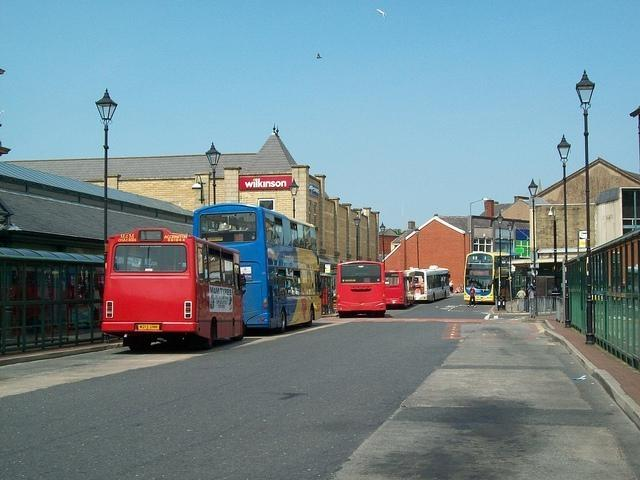bus: (100, 230, 244, 357), (194, 202, 326, 334), (338, 262, 387, 318), (464, 250, 512, 302), (410, 265, 450, 302), (386, 270, 404, 305)
